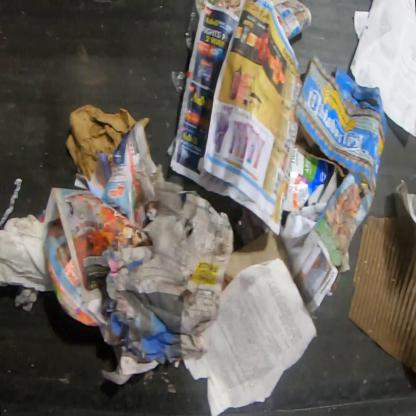cardboard: (292, 53, 389, 200), (348, 215, 416, 375), (225, 228, 290, 281), (281, 148, 335, 210)
soft_plastic: (184, 10, 203, 50), (171, 70, 188, 94)
